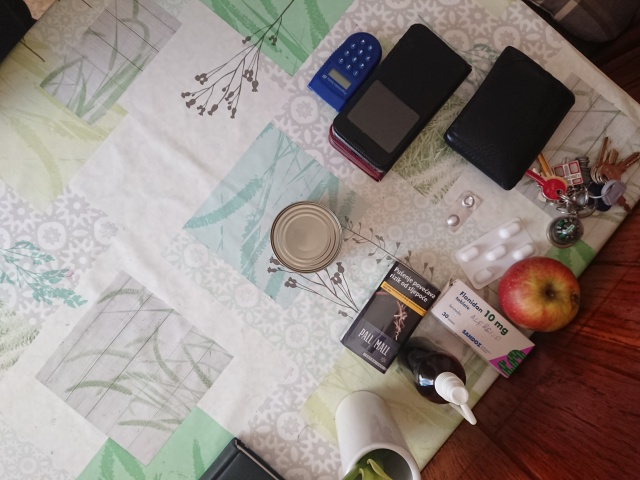Podravka Luncheon Meat 150g: (266, 199, 346, 276)
